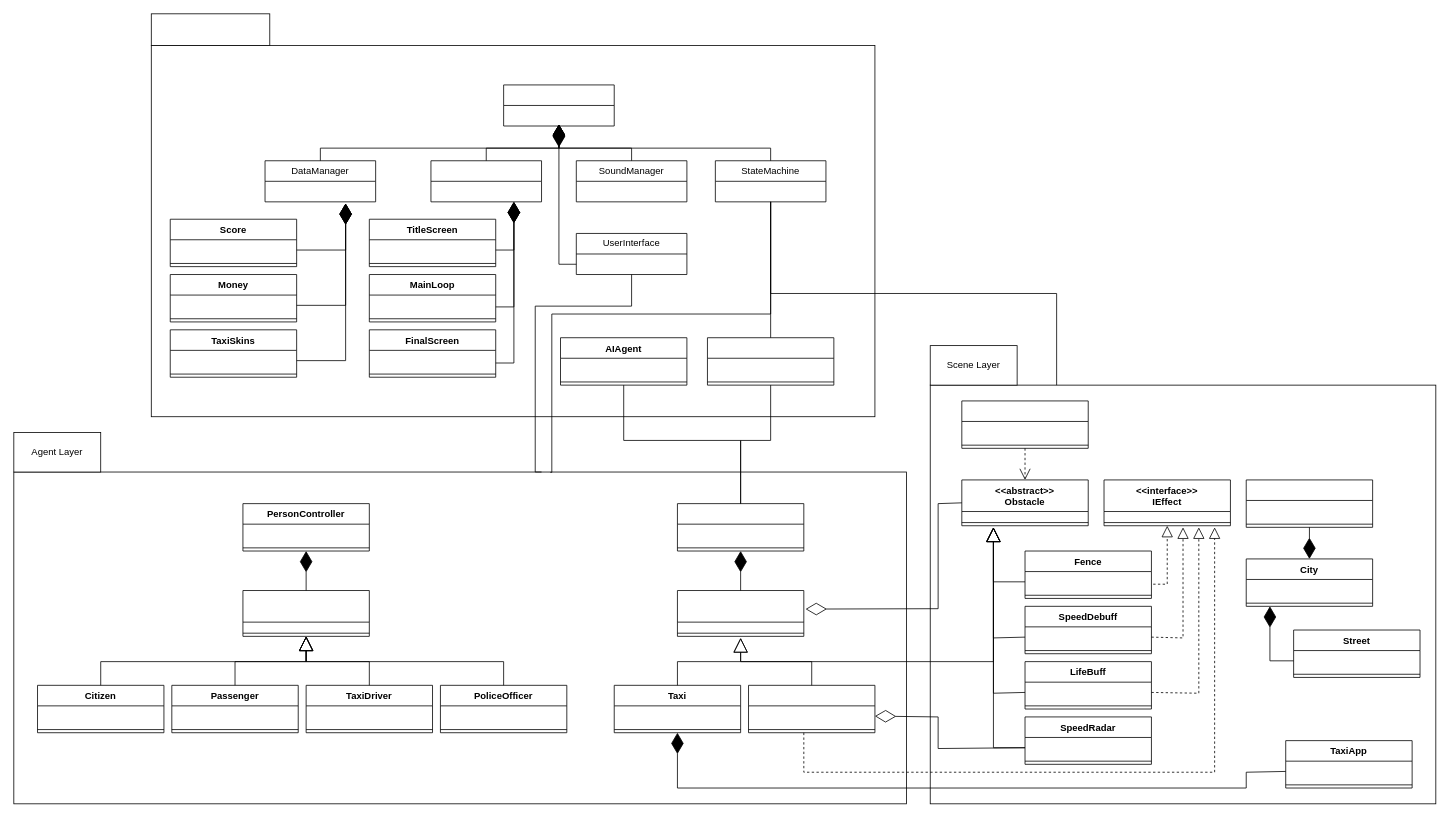
This 1450x822 diagram has some shape labels left out. Each missing label, with the centre of its shape:
"<<abstract>> Person" goes at point (305, 613).
"<<abstract>> Vehicle" goes at point (740, 613).
"Events" goes at point (770, 361).
"GameManager" goes at point (558, 105).
"Managers Layer" goes at point (210, 29).
"ObstacleFactory" goes at point (1024, 424).
"PoliceCar" goes at point (811, 709).
"Scene" goes at point (1309, 503).
"SceneManager" goes at point (486, 181).
"VehicleController" goes at point (740, 527).
